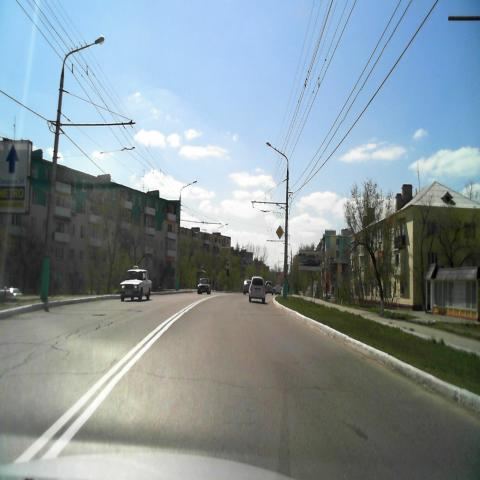2_1: (276, 226, 284, 240)
